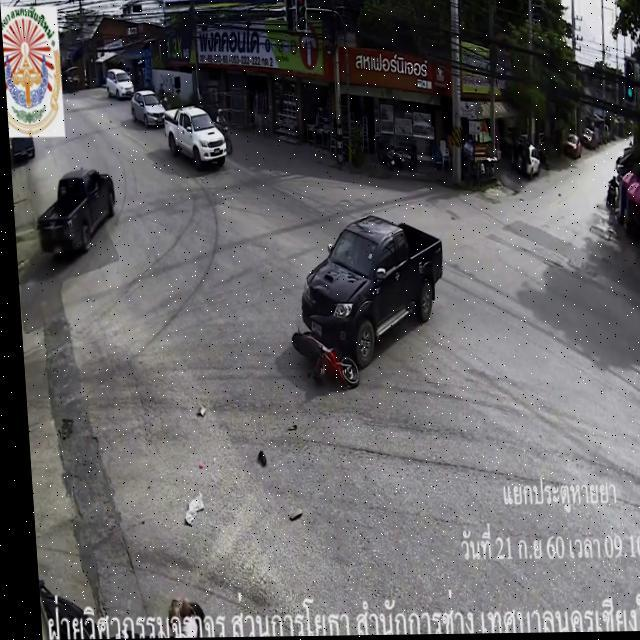multiple_accident: (260, 102, 460, 421)
normal: (16, 146, 133, 294), (143, 84, 253, 187)
